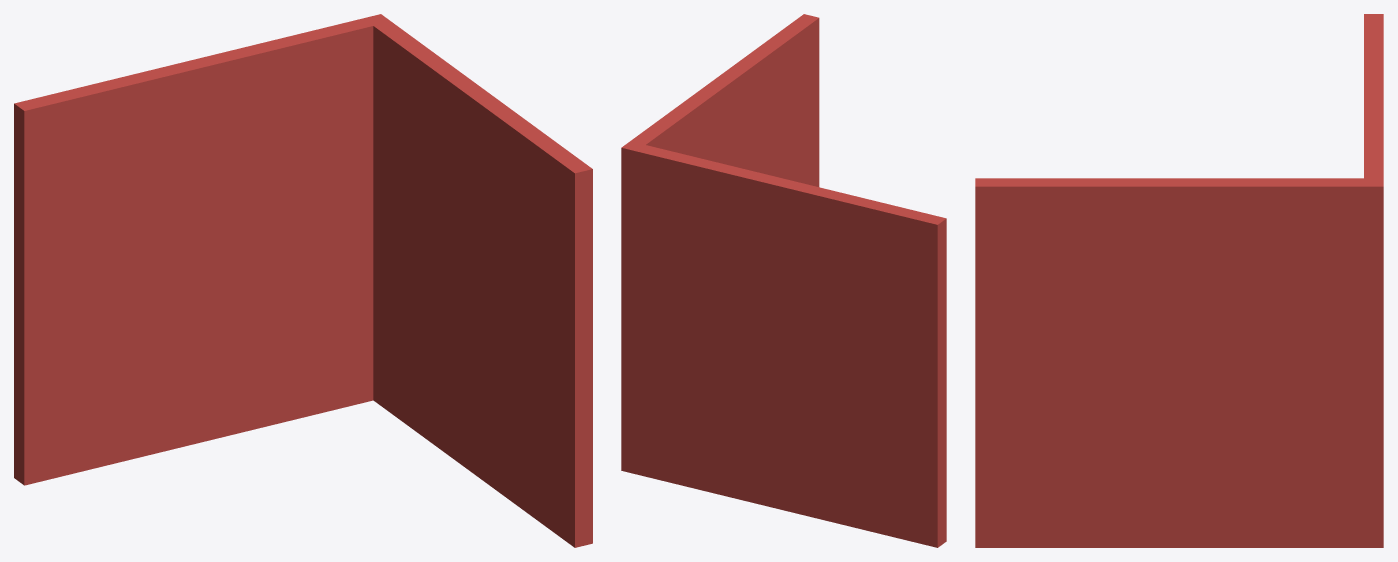
Rendered from Wal_7_Corner_A.fbx.
The picture shows the model from 3 angles, left to right: view 1: azimuth 30°, elevation 25°; view 2: azimuth 150°, elevation 25°; view 3: azimuth 270°, elevation 25°; orthographic projection. The views are drawn at different scales.
Parts seen in each view (by area): view 1: polySurface45; view 2: polySurface45; view 3: polySurface45.
Boxes of the visible parts, x1,y1,x2,y2 form: polySurface45: [14, 14, 592, 547]; polySurface45: [621, 14, 946, 547]; polySurface45: [975, 14, 1383, 547].
Bounding box in the file's own units: 4.1 × 4 × 4.1.
1 material, 1 textured.
